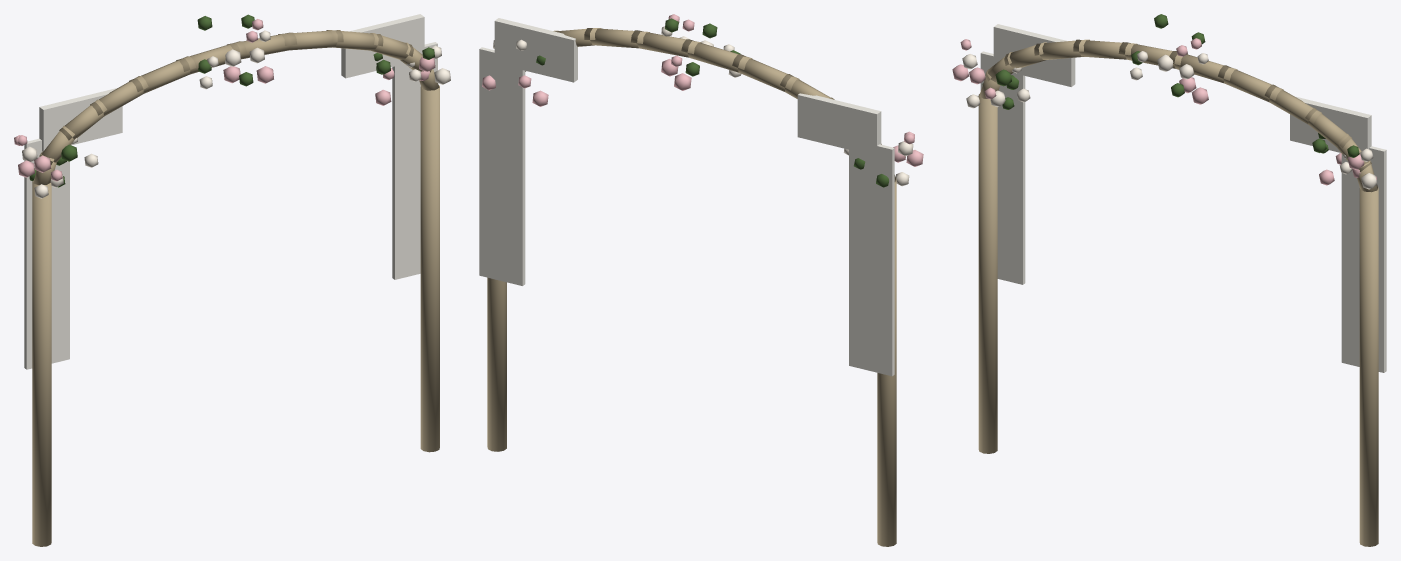
Rendered from traubogen.glb.
The picture shows the model from 3 angles, left to right: view 1: azimuth 30°, elevation 25°; view 2: azimuth 150°, elevation 25°; view 3: azimuth 330°, elevation 25°; orthographic projection. The views are drawn at different scales.
Parts seen in each view (by area): view 1: traubogen; view 2: traubogen; view 3: traubogen.
Boxes of the visible parts, x1,y1,x2,y2 form: traubogen: (14, 14, 450, 546); traubogen: (479, 14, 923, 546); traubogen: (952, 14, 1386, 546).
Bounding box in the file's own units: 3 × 3.19 × 0.2601.
